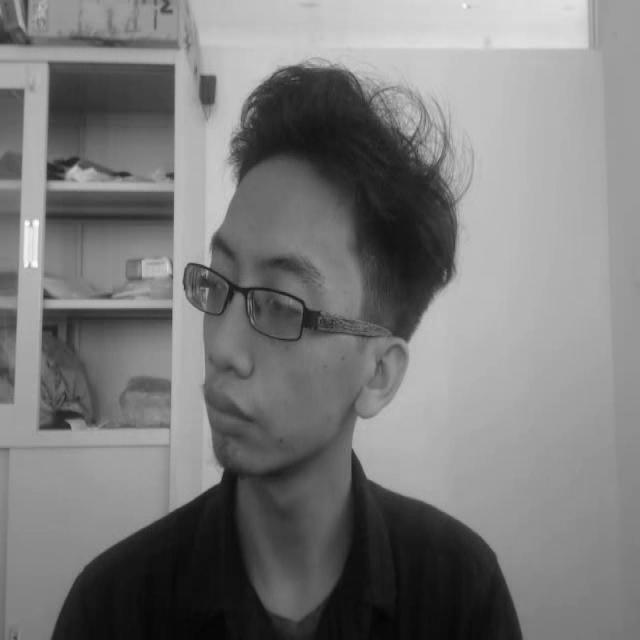real: (180, 45, 480, 481)
